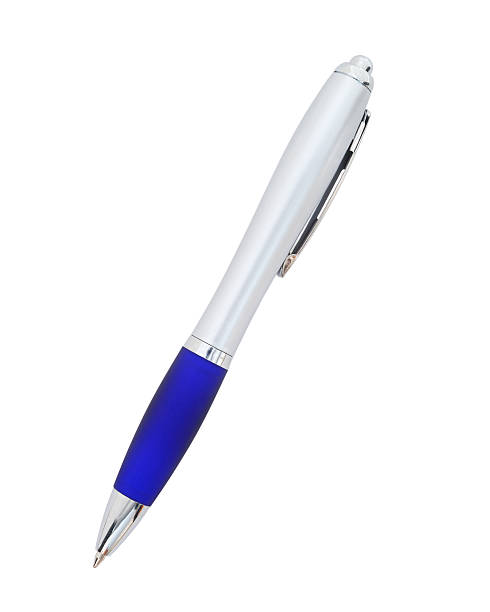pen: (87, 34, 416, 589)
